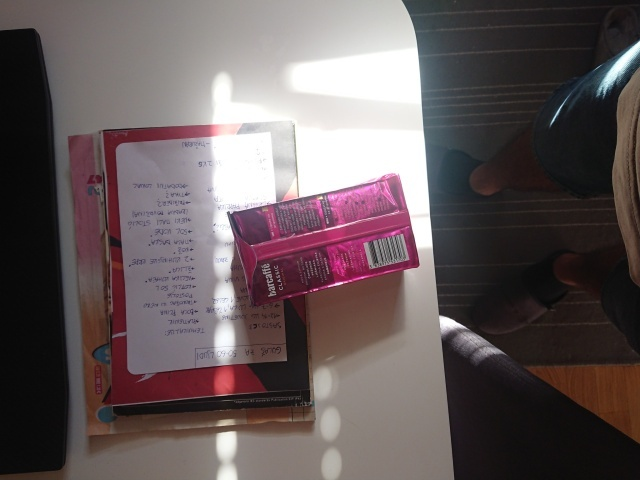Barcaffe Classic Original 225g: (224, 170, 421, 309)
